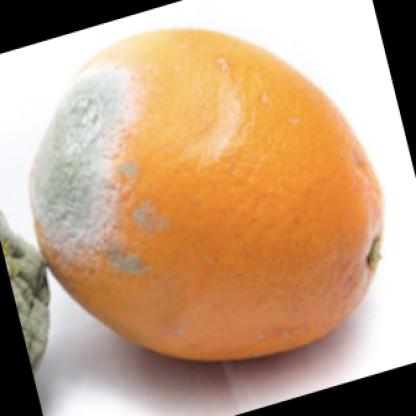rotten_orange: (23, 19, 400, 367)
